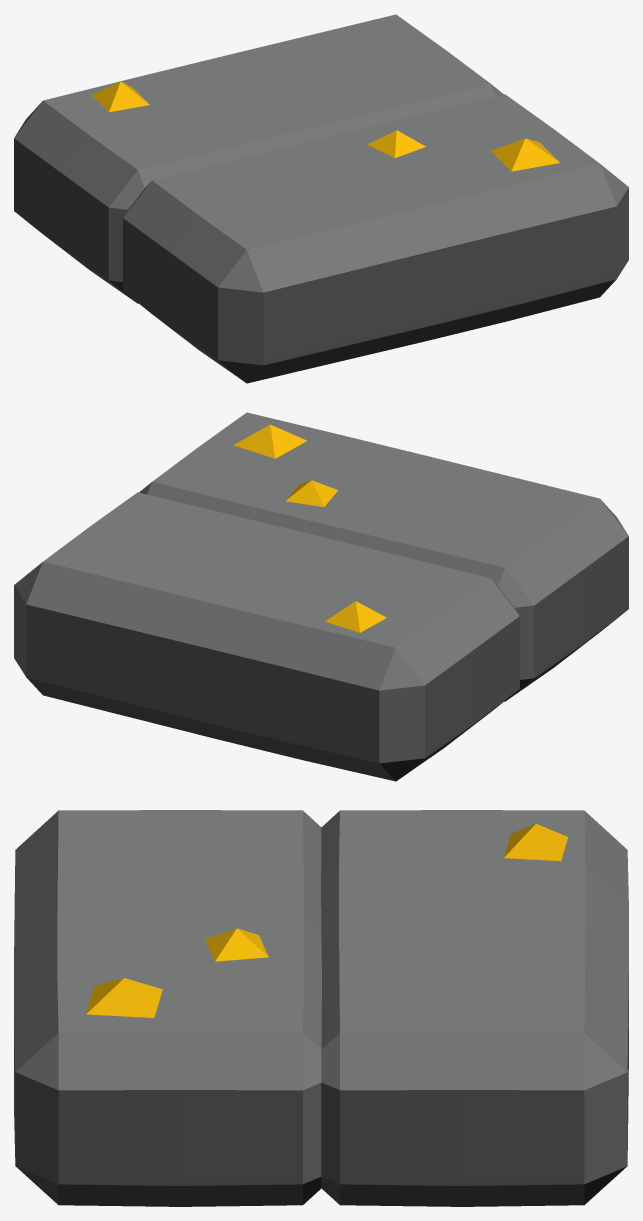
File: m_kub_ore_floorTwoBrick.FBX
3 renders of one model, top to bottom at view 1: azimuth 30°, elevation 25°; view 2: azimuth 150°, elevation 25°; view 3: azimuth 270°, elevation 25°, orthographic. The views are drawn at different scales.
Visible parts, largest first — view 1: m_kub_ore_floorTwoBrick; view 2: m_kub_ore_floorTwoBrick; view 3: m_kub_ore_floorTwoBrick.
Part boxes in pixels (<box>): m_kub_ore_floorTwoBrick: <box>14,14,628,383</box>; m_kub_ore_floorTwoBrick: <box>14,412,628,781</box>; m_kub_ore_floorTwoBrick: <box>14,810,628,1206</box>.
Size of the model in its own units: 2.18 by 0.7826 by 2.18.
